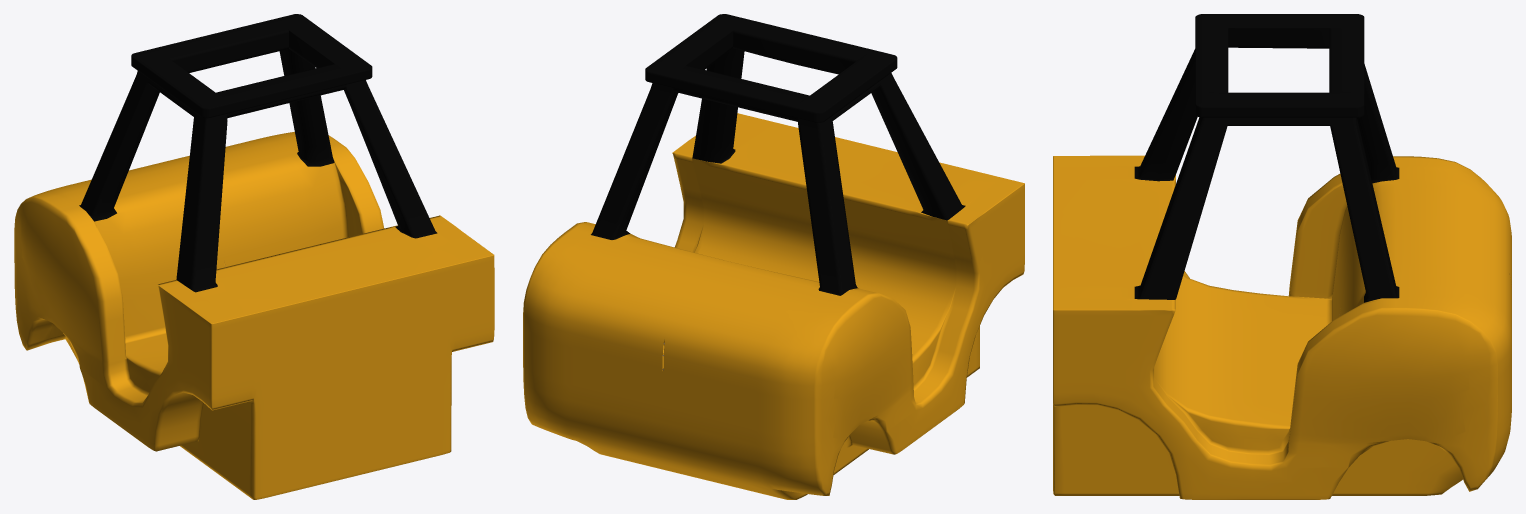
The model's file is remapped_fork.fbx.
3 views of the same model, side by side, from view 1: azimuth 30°, elevation 25°; view 2: azimuth 150°, elevation 25°; view 3: azimuth 270°, elevation 25° (orthographic). The views are drawn at different scales.
Visible parts, largest first — view 1: forkliftv2; view 2: forkliftv2; view 3: forkliftv2.
Boxes of the visible parts, left/top/right/bottom form: forkliftv2: left=14, top=14, right=494, bottom=499; forkliftv2: left=523, top=14, right=1024, bottom=499; forkliftv2: left=1053, top=14, right=1511, bottom=499.
Size of the model in its own units: 164 by 179 by 195.
